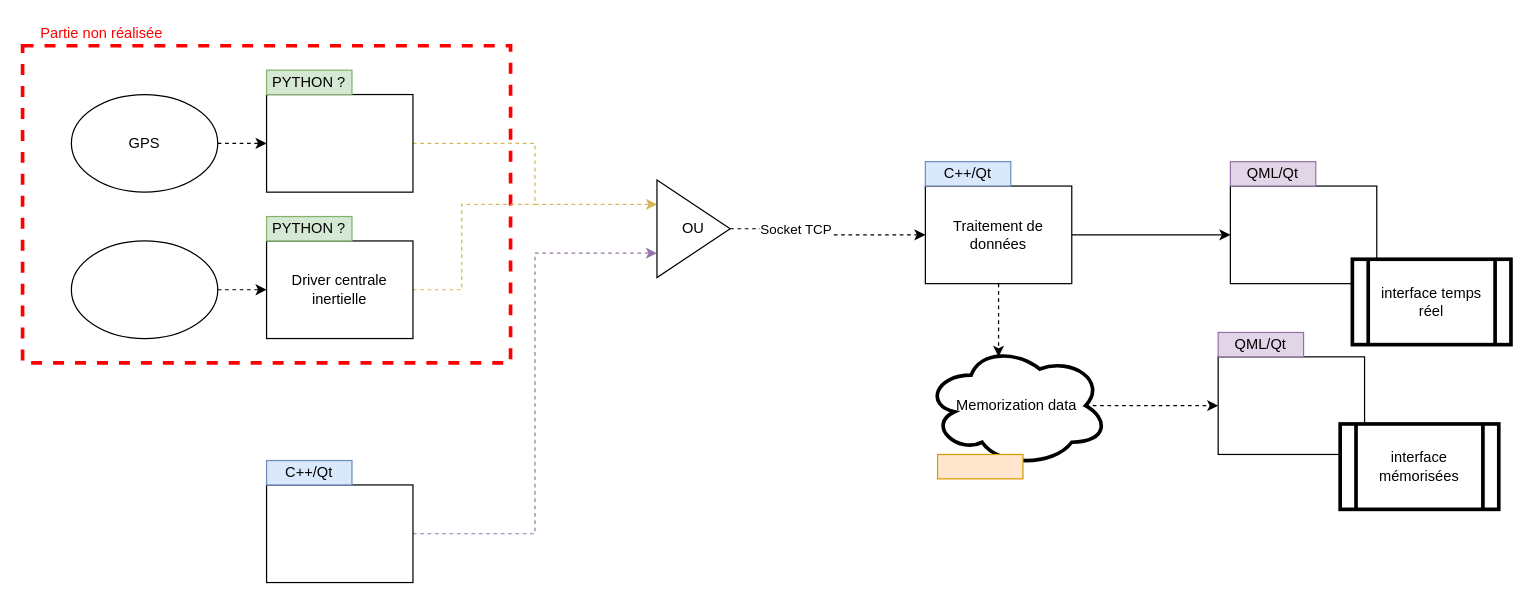
Image size: 1534x604. Some labels were removed from this diagram. The shapes that lost their labels are listed below. From the top down, each one's centre as x and y in pixels, then its label:
At (339,142): "Driver GPS".
At (1303,234): "Affichage de données temps réel".
At (144,289): "Centrale inertielle".
At (1291,405): "Affichage de données mémorisées".
At (979,466): ".txt".
At (339,533): "Simulateur".
